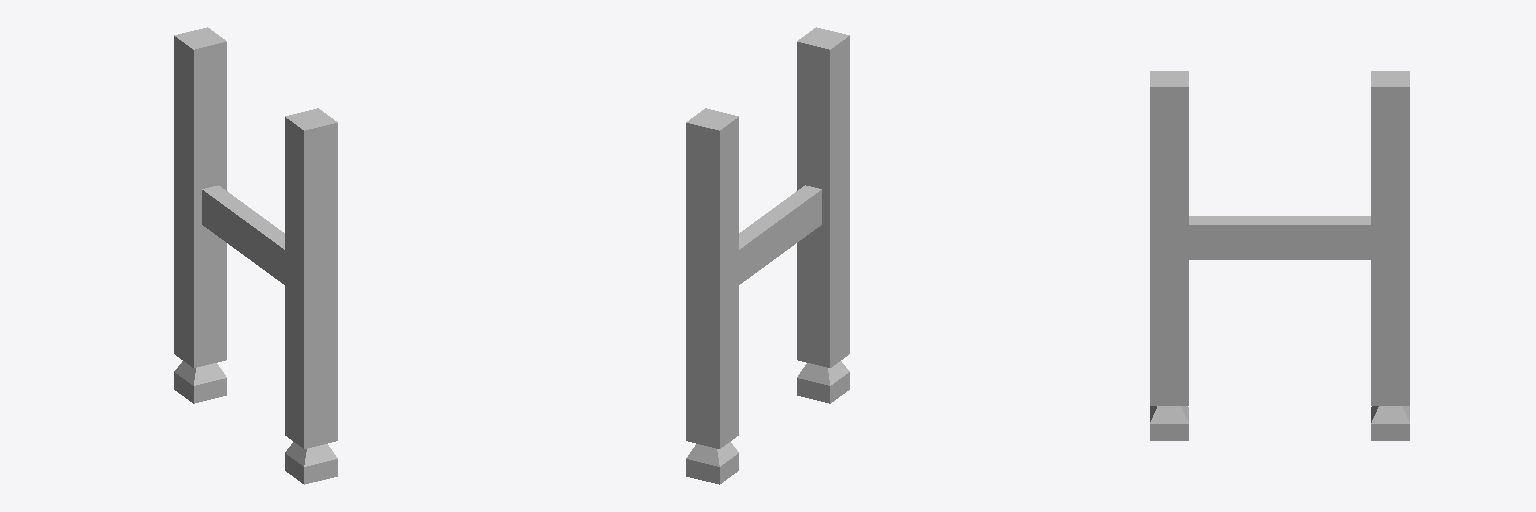
File: structure-high.obj
3 renders of one model, left to right at view 1: azimuth 30°, elevation 25°; view 2: azimuth 150°, elevation 25°; view 3: azimuth 270°, elevation 25°, orthographic.
Visible parts, largest first — view 1: structure-high; view 2: structure-high; view 3: structure-high.
Part boxes in pixels (x1,y1,x2,y2): structure-high: (174,27,337,484); structure-high: (686,27,849,484); structure-high: (1150,71,1409,440).
Bounding box in the file's own units: 0.15 × 1.5 × 1.